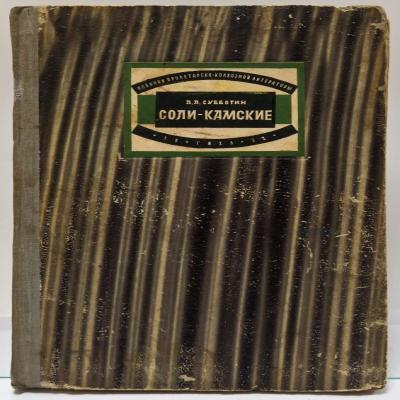rare_books: (8, 6, 391, 400)
